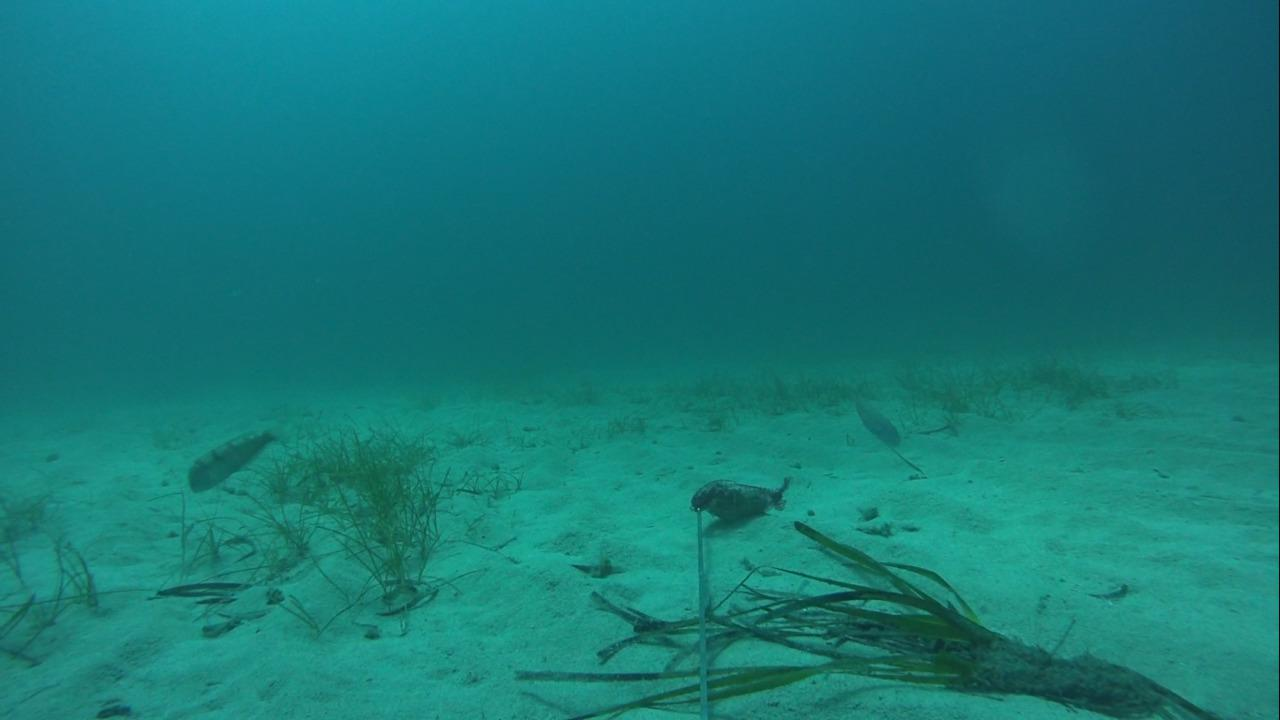raor: (185, 424, 280, 493), (846, 394, 906, 450)
